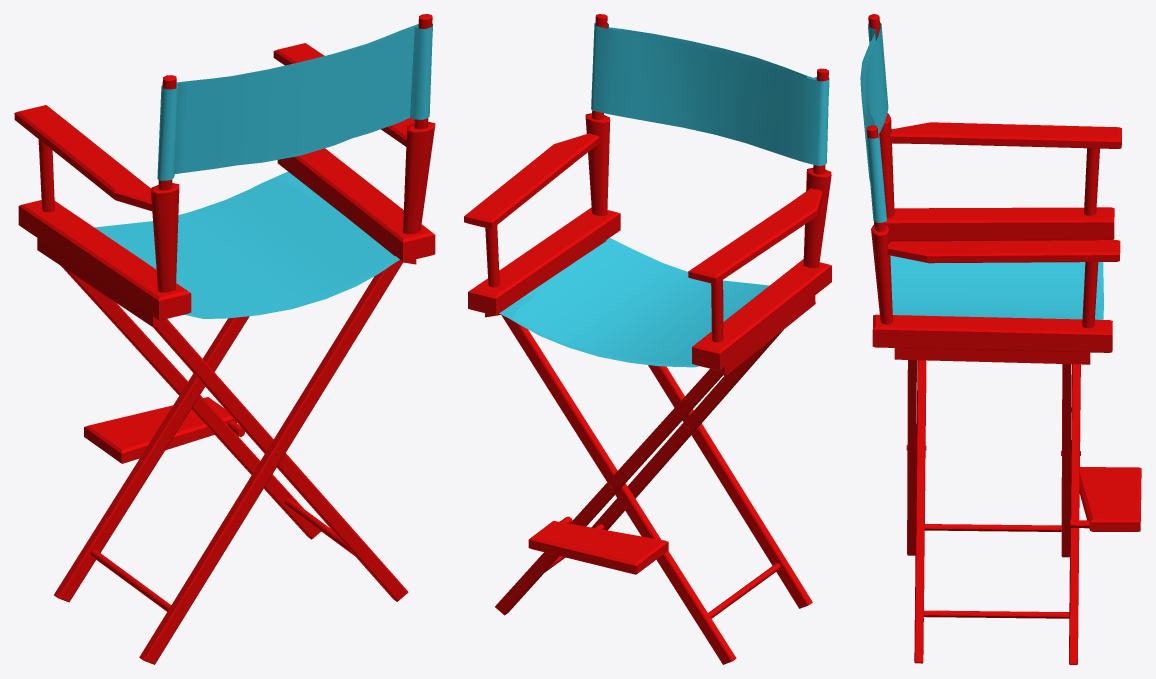
The model's file is Chair.fbx.
3 renders of one model, left to right at view 1: azimuth 30°, elevation 25°; view 2: azimuth 150°, elevation 25°; view 3: azimuth 270°, elevation 25°, orthographic. The views are drawn at different scales.
Parts seen in each view (by area): view 1: Chair; view 2: Chair; view 3: Chair.
Part boxes in pixels (x1,y1,x2,y2): Chair: [14, 14, 435, 664]; Chair: [464, 14, 831, 664]; Chair: [860, 14, 1141, 664].
Size of the model in its own units: 1.71 by 3.25 by 1.54.
